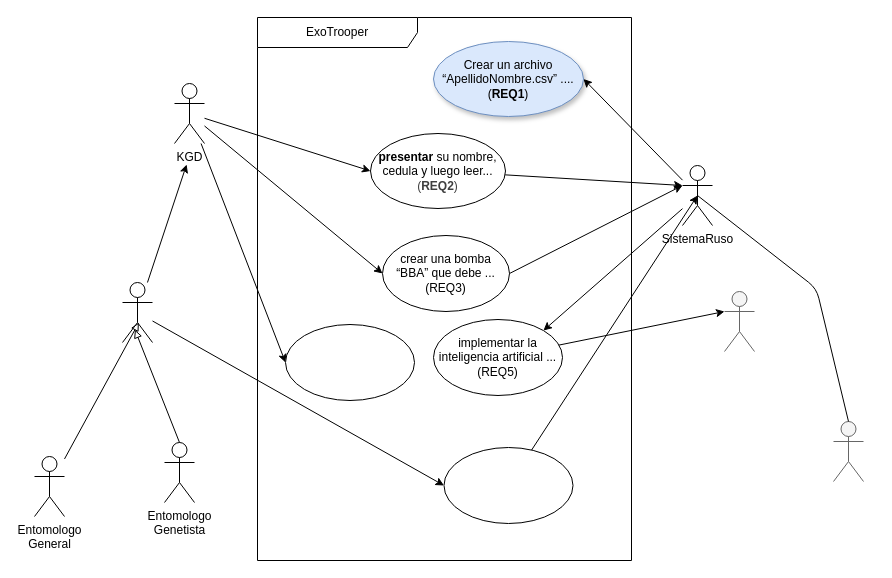
Image size: 892x578. Some labels were removed from this diagram. The centre of each missing label's shape, as x and y in pixels:
"AntCiberDron" goes at (739,321).
"cosechar hormigas y comida mediante un proceso ETL, ..." goes at (508,485).
"crear un tipo de hormiga que derive de ... (REQ4)" goes at (349,362).
"DataBase" goes at (848,451).
"Entomologo" goes at (137,312).
